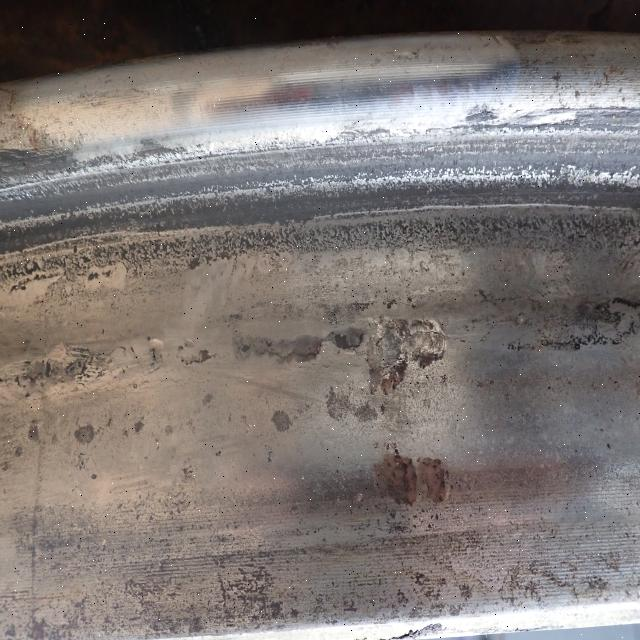Peeling: (16, 350, 115, 394), (367, 319, 408, 400), (243, 334, 323, 365), (408, 320, 446, 370), (578, 300, 624, 330), (332, 327, 364, 353), (148, 336, 163, 372), (74, 426, 97, 448), (196, 350, 218, 368)
